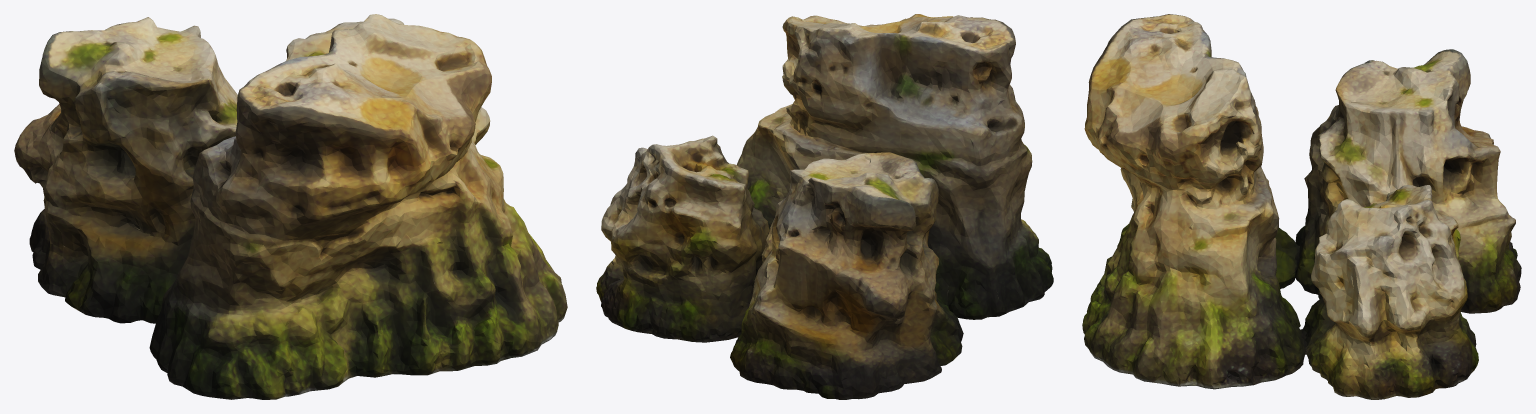
File: shore_rocks_small.glb
3 renders of one model, left to right at view 1: azimuth 30°, elevation 25°; view 2: azimuth 150°, elevation 25°; view 3: azimuth 270°, elevation 25°, orthographic. The views are drawn at different scales.
Parts seen in each view (by area): view 1: world; view 2: world; view 3: world.
Part boxes in pixels (x1,y1,x2,y2): world: (14,14,567,399); world: (596,14,1053,399); world: (1082,14,1521,399).
Size of the model in its own units: 0.8561 by 0.5681 by 0.9036.
Materials: 1 (1 with a texture image).
